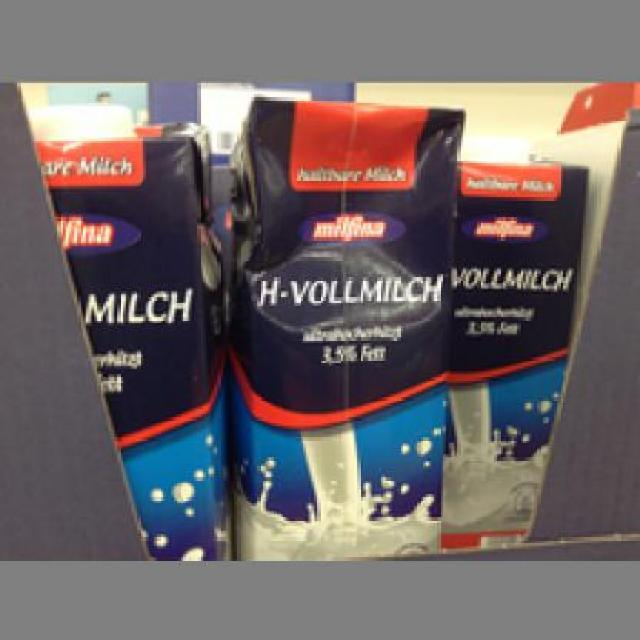Milk: (220, 97, 449, 552), (14, 97, 220, 560), (440, 152, 574, 554)
